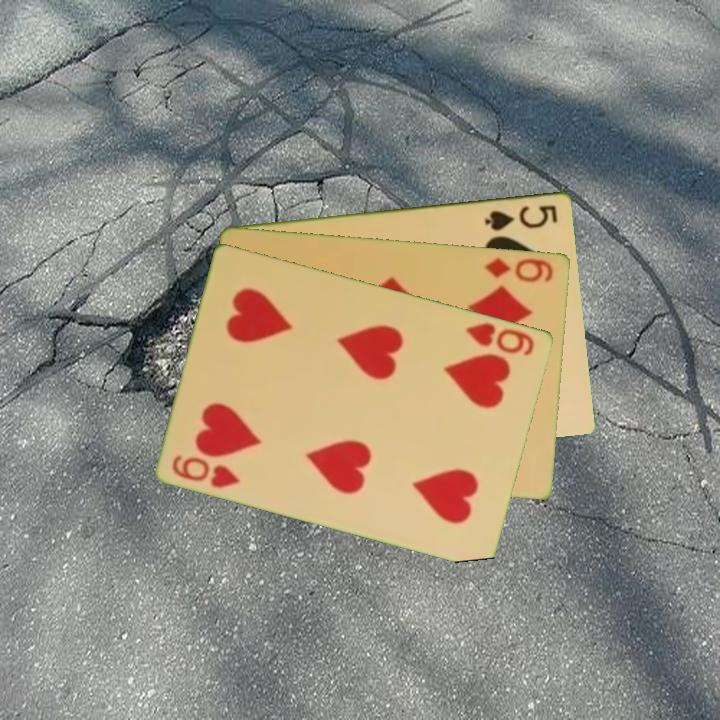5s: (481, 201, 561, 233)
6d: (482, 253, 557, 285)
6h: (463, 318, 538, 358), (169, 451, 244, 491)
